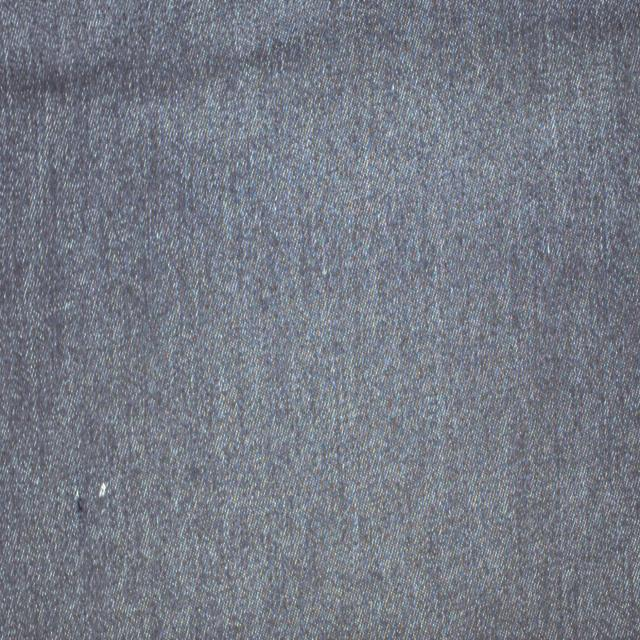Hole: (74, 490, 85, 516)
Knot: (98, 483, 107, 498)
